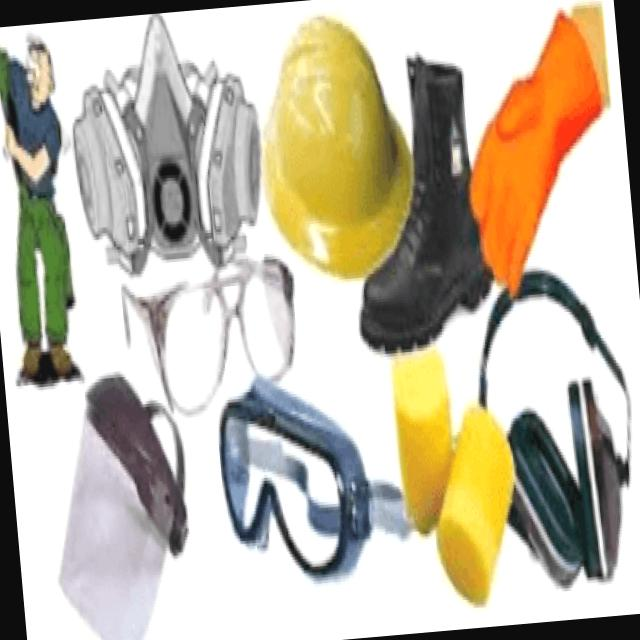goggles: (206, 402, 388, 584), (143, 252, 304, 418)
helmet: (270, 15, 404, 282)
